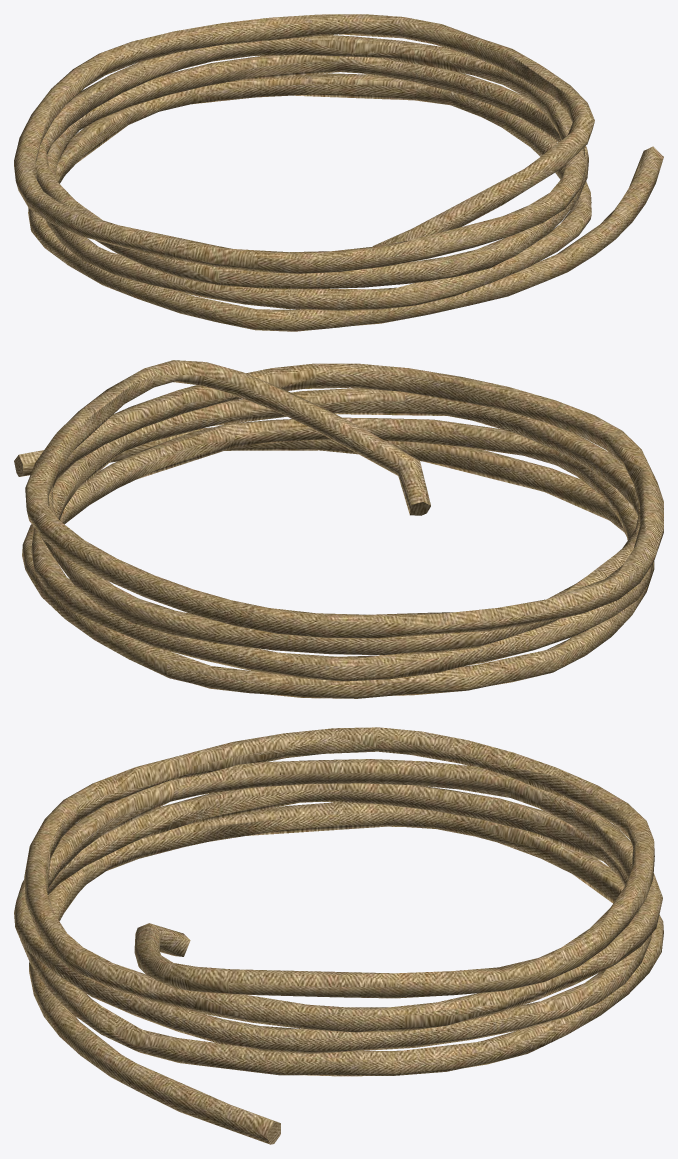
File: Rope.FBX
3 views of the same model, one above another, from view 1: azimuth 30°, elevation 25°; view 2: azimuth 150°, elevation 25°; view 3: azimuth 270°, elevation 25° (orthographic). The views are drawn at different scales.
Parts seen in each view (by area): view 1: Rope; view 2: Rope; view 3: Rope.
Boxes of the visible parts, x1,y1,x2,y2 form: Rope: [14, 14, 663, 331]; Rope: [14, 360, 663, 698]; Rope: [14, 727, 663, 1144].
Bounding box in the file's own units: 67.8 × 11.57 × 56.42.
1 material, 1 textured.
